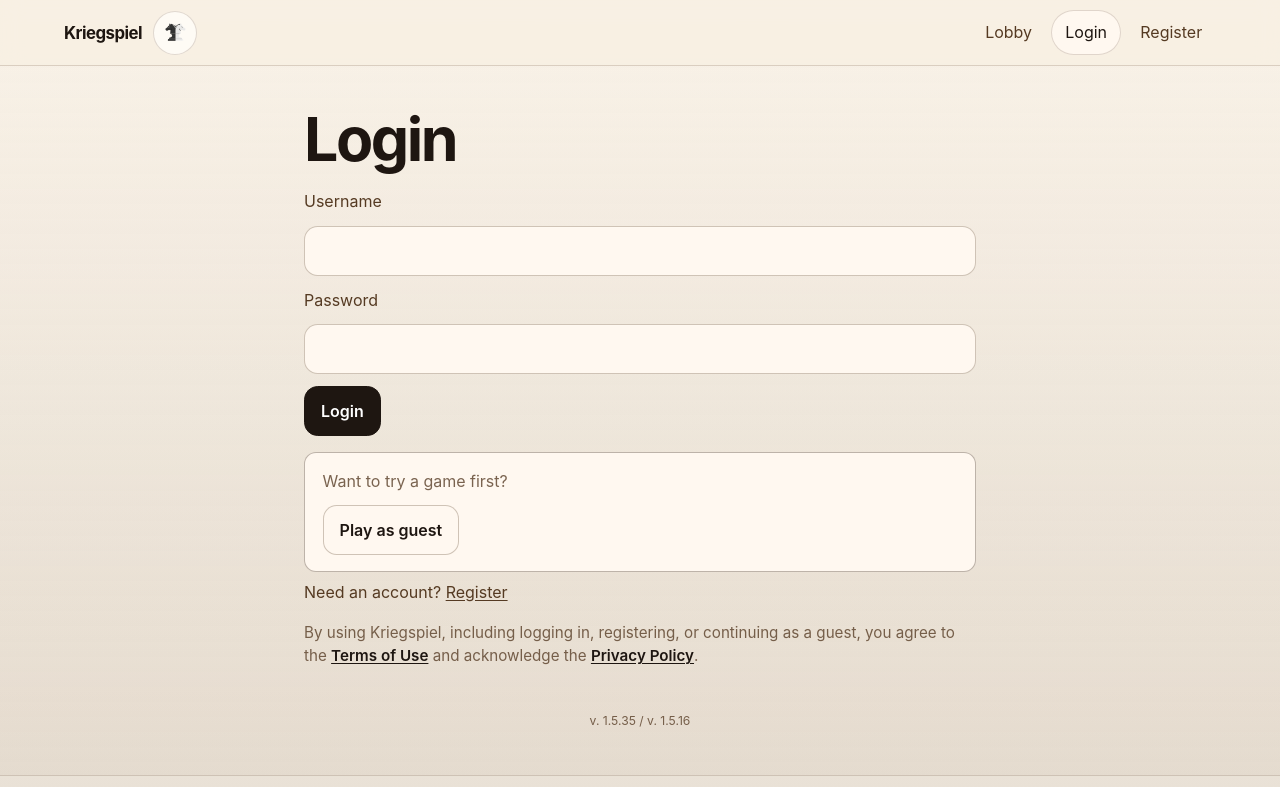
Scenario: App routes › redirects_back_to_requested_game_after_login
Expected: the heading "Login" is shown, [304,102,456,176]
Type "fil" into the field labelled "Username" at (640, 251), box [304,226,976,276]
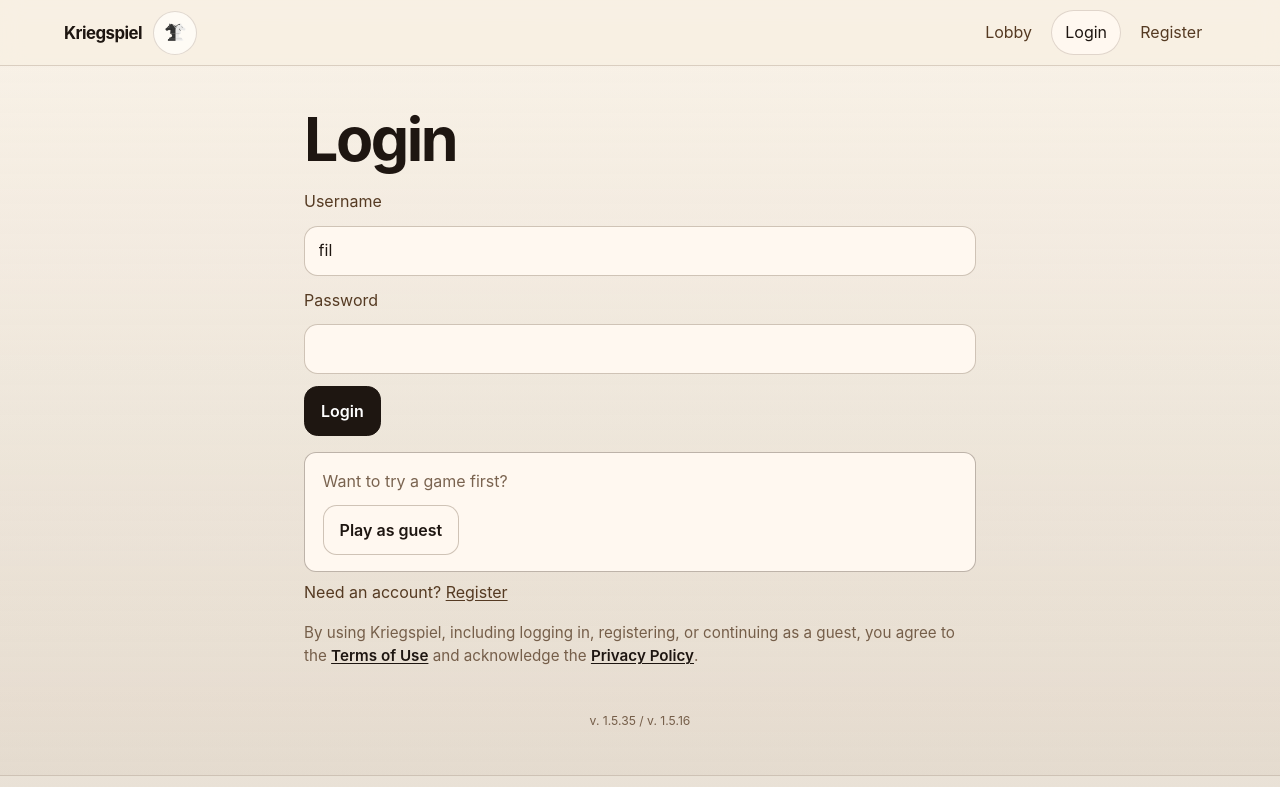
Type "secret123" into the password field labelled "Password" at (640, 349), box [304,324,976,374]
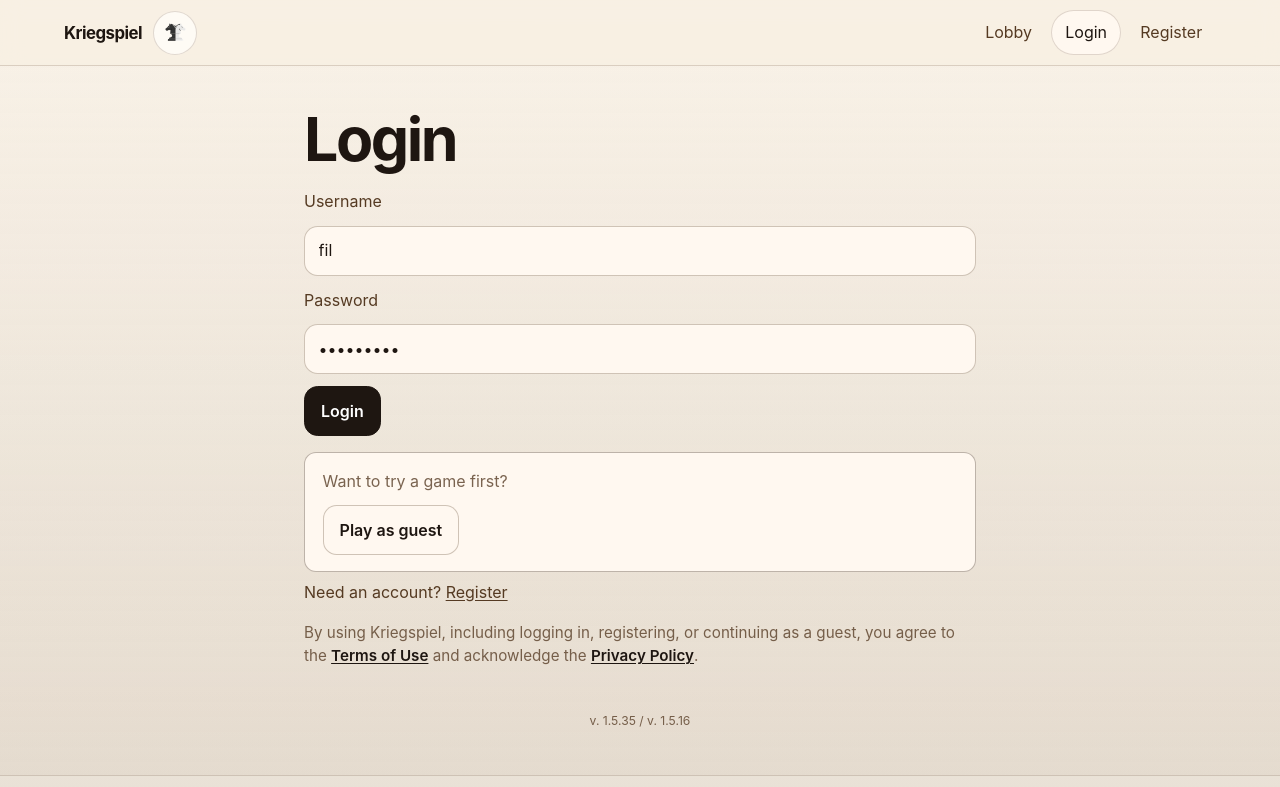
Click the button "Login" at (342, 411), box [304,386,381,436]
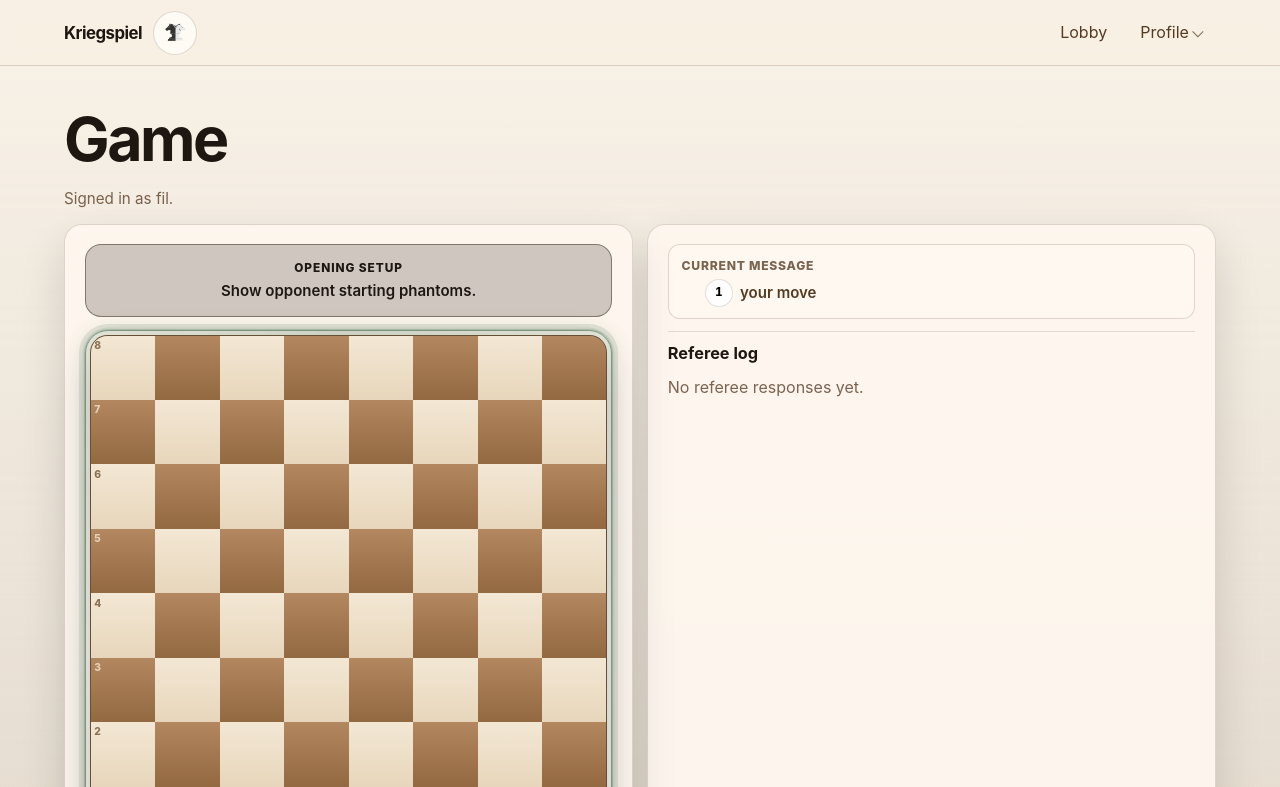
Now the heading "Game" is shown, box [64,106,227,173]
Now the text "Signed in as fil." is shown, box [64,189,173,208]
